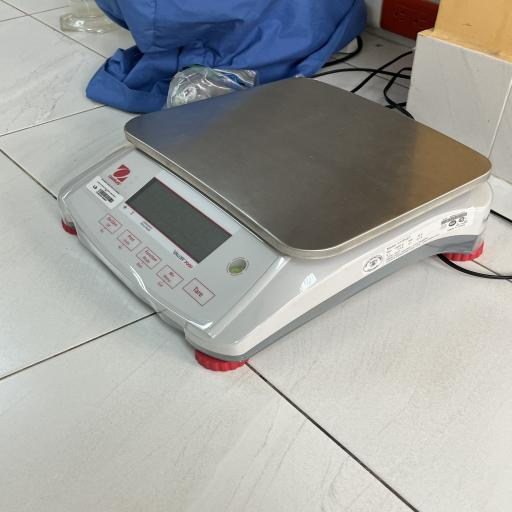Balanza_Granataria_Ohaus: (43, 72, 496, 375)
